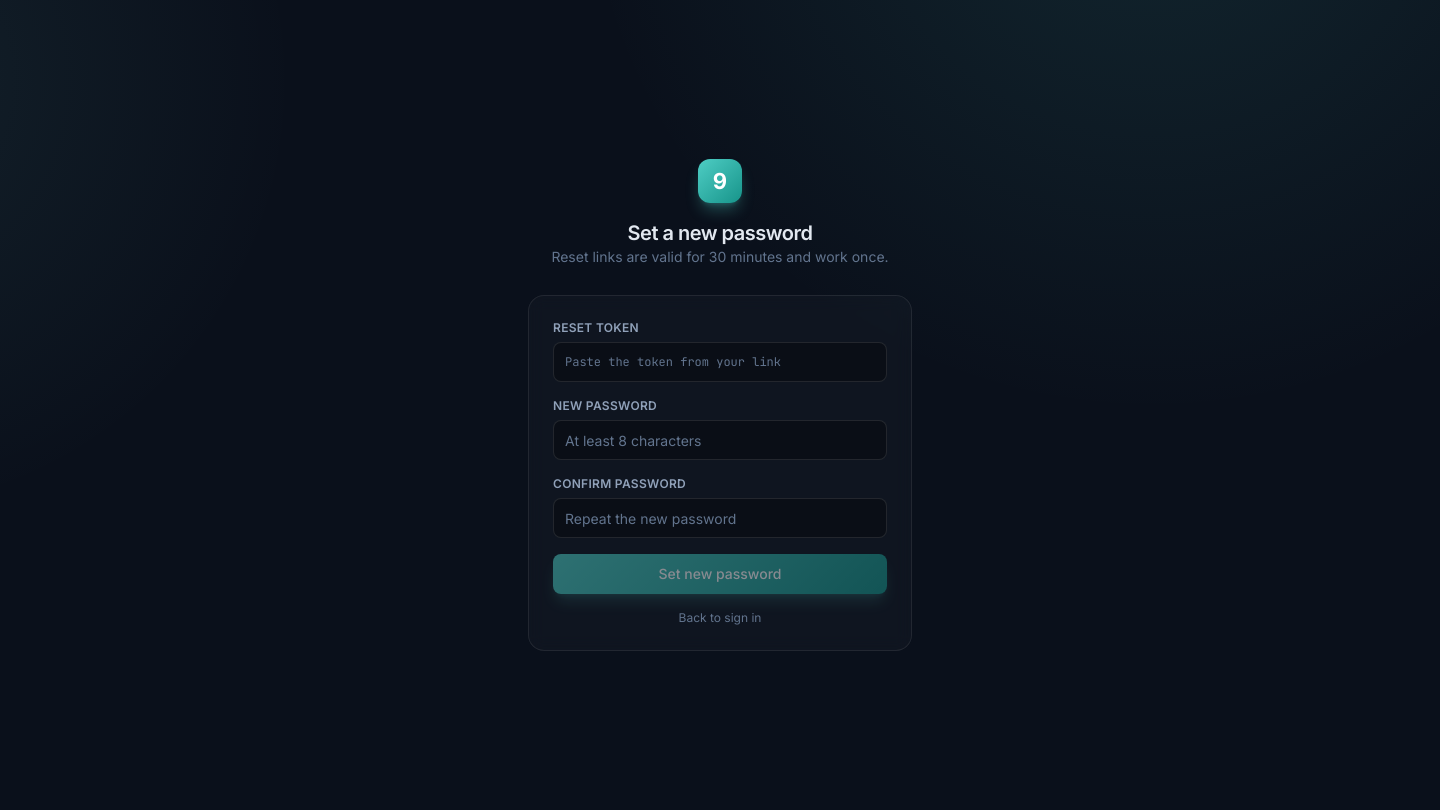
Test: ResetPassword › surfaces a rejected token
Type "token-1234567890abcdef" into the field with placeholder "Paste the token from your link" at (720, 362), box [553,342,887,382]
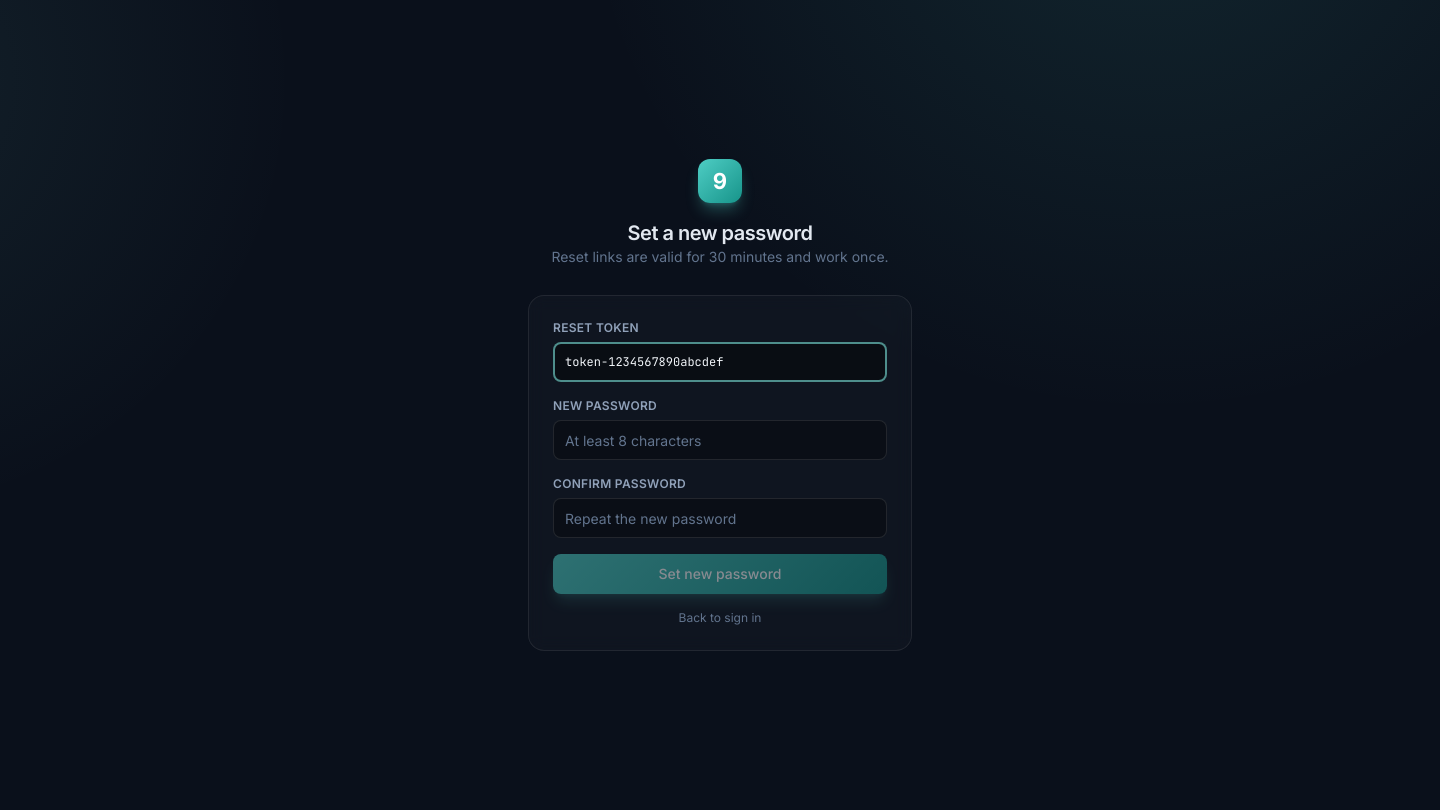
Type "fresh-pass-123" into the password field with placeholder "At least 8 characters" at (720, 440), box [553,420,887,460]
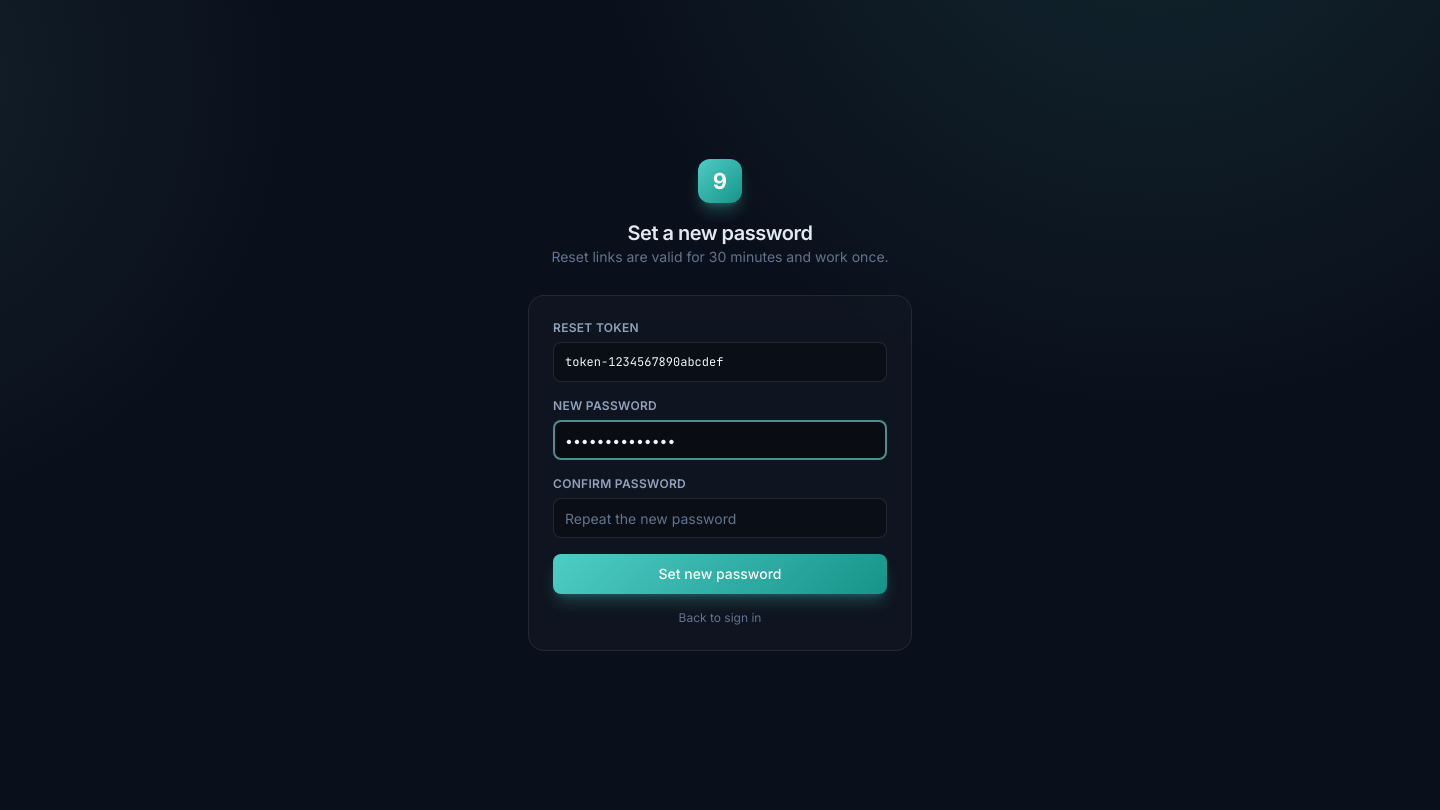
Type "fresh-pass-123" into the password field with placeholder "Repeat the new password" at (720, 518), box [553,498,887,538]
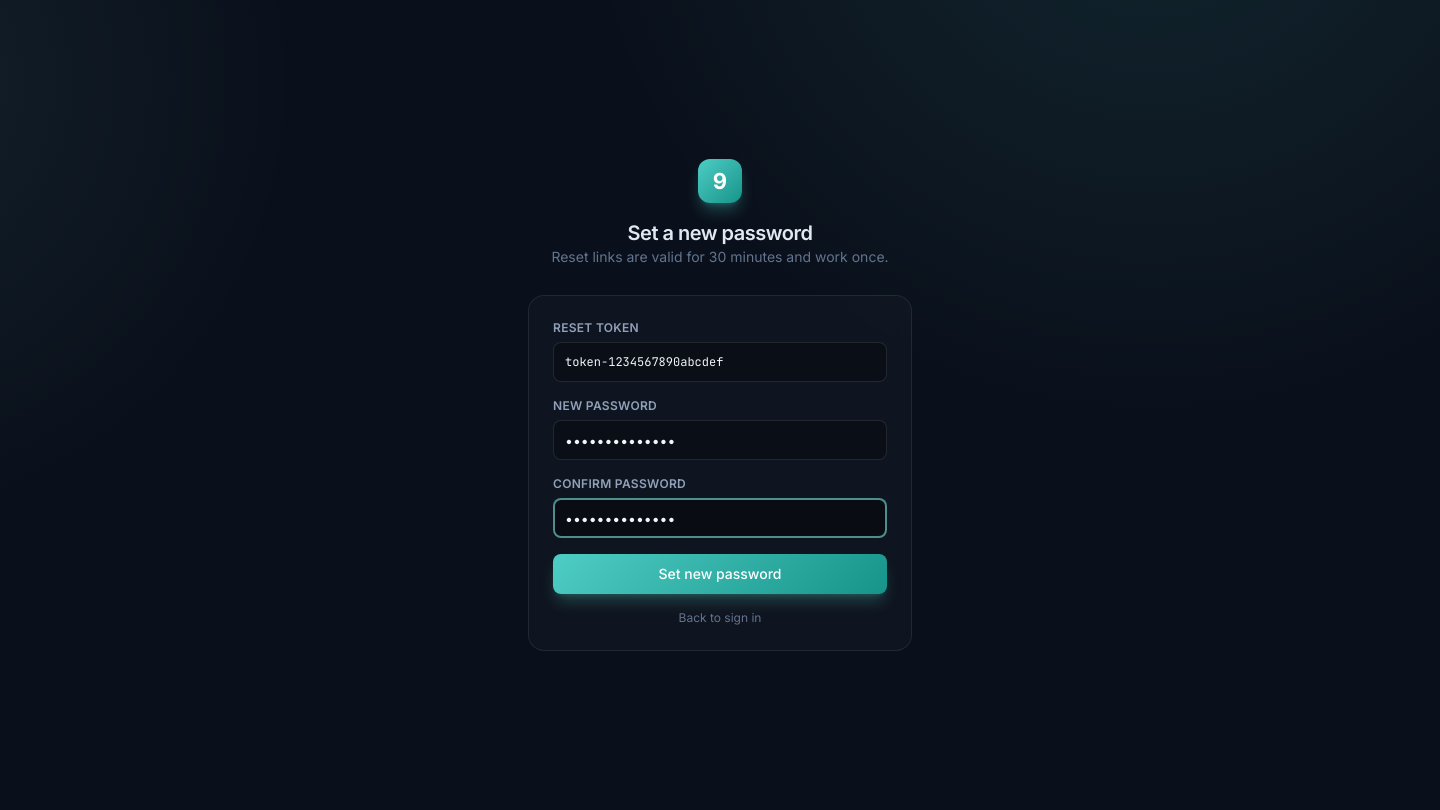
Click the button "Set new password" at (720, 574), box [553,554,887,594]
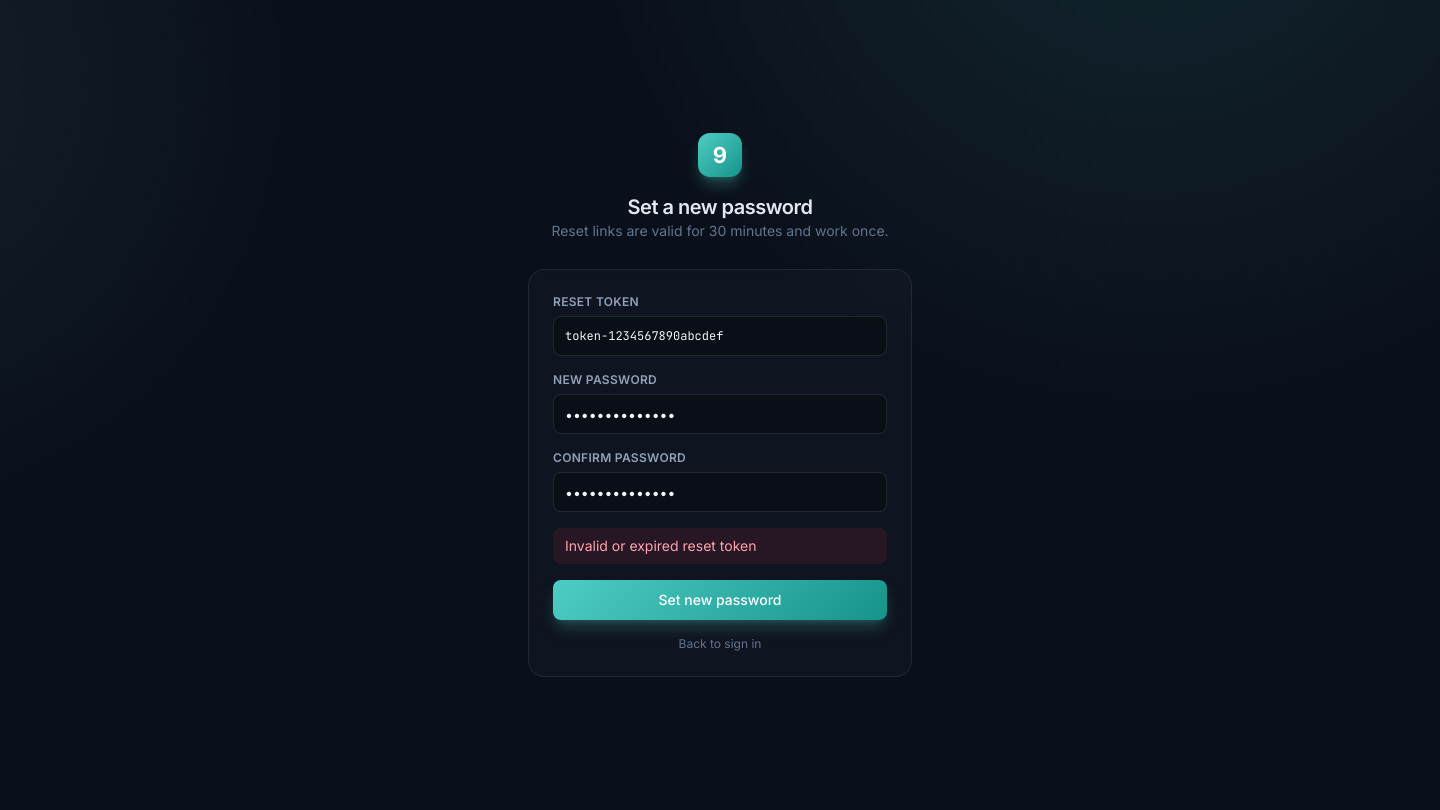
Check: the text "Invalid or expired reset token" is shown, box [553,528,887,564]
